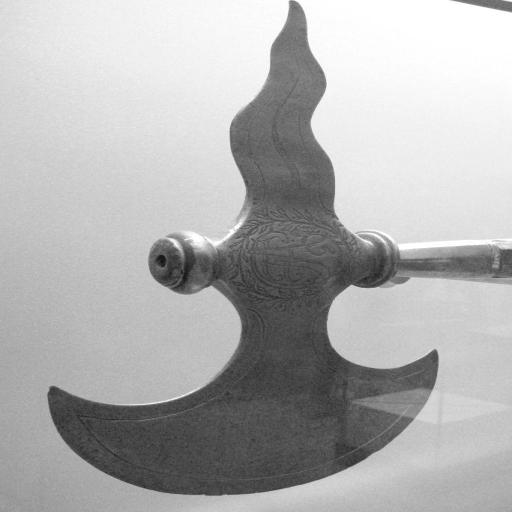Axe: (45, 0, 512, 497)
